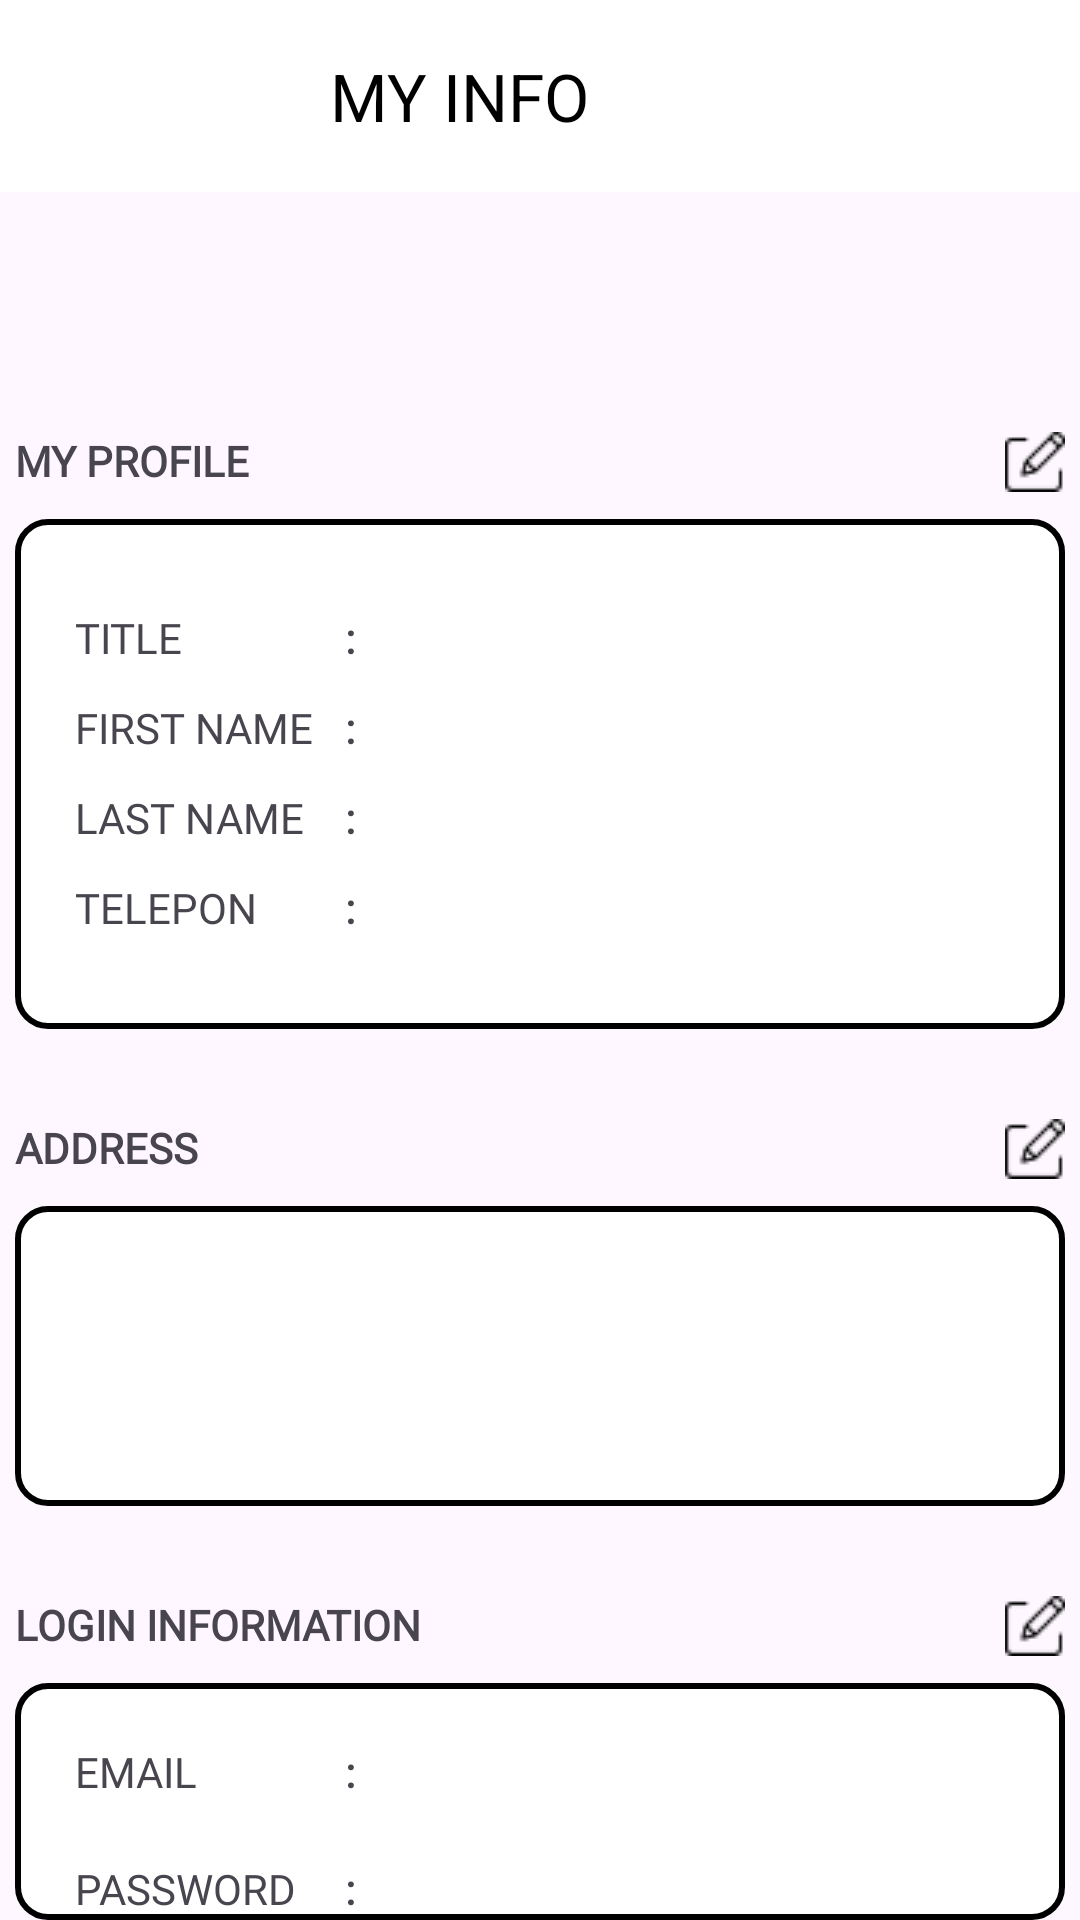

Screen size 1080x1920. Icon name, then its box in pixels as {"left": x1, "top": y1, "right": x2, "bottom": y2}:
edit: {"left": 1005, "top": 432, "right": 1065, "bottom": 492}, {"left": 1005, "top": 1119, "right": 1065, "bottom": 1179}, {"left": 1005, "top": 1596, "right": 1065, "bottom": 1656}
